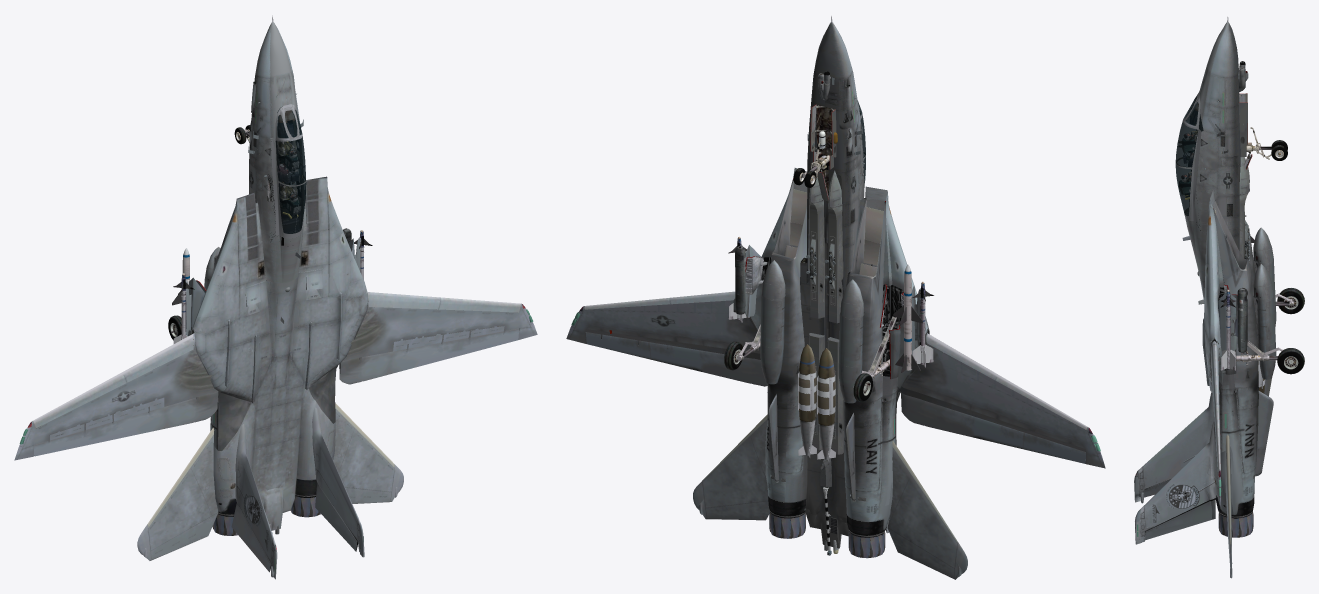
3 views of the same model, side by side, from view 1: azimuth 30°, elevation 25°; view 2: azimuth 150°, elevation 25°; view 3: azimuth 270°, elevation 25° (orthographic). The views are drawn at different scales.
Visible parts, largest first — view 1: fuselage, Part174, Part165, Part186, Part185, Part28, Part09, Part181, Part05, Part172, Part179, Part183 (+7 smaller); view 2: fuselage, Part174, Part165, Part186, Part185, Part172, Part181, Part155, Part146, Part26, Part178, Part179 (+4 smaller); view 3: fuselage, Part05, Part09, Part28, Part26, Part47, Part169, Part185, Part142, Part132, Part48, Part15 (+4 smaller).
Part boxes in pixels (left/top/right/bottom): fuselage: left=172, top=71, right=372, bottom=572; Part174: left=14, top=333, right=217, bottom=460; Part165: left=342, top=301, right=537, bottom=361; Part186: left=137, top=427, right=218, bottom=560; Part185: left=333, top=403, right=403, bottom=503; Part28: left=271, top=136, right=306, bottom=238; Part09: left=235, top=424, right=277, bottom=579; Part181: left=34, top=407, right=164, bottom=456; Part05: left=312, top=407, right=364, bottom=557; Part172: left=390, top=328, right=518, bottom=373; Part179: left=33, top=334, right=193, bottom=428; Part183: left=217, top=365, right=337, bottom=450; fuselage: left=728, top=68, right=933, bottom=553; Part174: left=900, top=333, right=1105, bottom=468; Part165: left=566, top=300, right=760, bottom=359; Part186: left=887, top=440, right=967, bottom=579; Part185: left=693, top=414, right=769, bottom=520; Part172: left=586, top=332, right=721, bottom=376; Part181: left=954, top=410, right=1085, bottom=463; Part155: left=817, top=348, right=835, bottom=461; Part146: left=798, top=344, right=816, bottom=457; Part26: left=814, top=16, right=852, bottom=78; Part178: left=901, top=392, right=955, bottom=432; Part179: left=926, top=334, right=1087, bottom=429; fuselage: left=1137, top=61, right=1276, bottom=536; Part05: left=1135, top=391, right=1273, bottom=544; Part09: left=1134, top=378, right=1271, bottom=503; Part28: left=1175, top=120, right=1201, bottom=221; Part26: left=1206, top=17, right=1238, bottom=77; Part47: left=1145, top=498, right=1215, bottom=540; Part169: left=1211, top=344, right=1220, bottom=472; Part185: left=1225, top=434, right=1232, bottom=578; Part142: left=1277, top=348, right=1304, bottom=374; Part132: left=1277, top=288, right=1304, bottom=314; Part48: left=1238, top=102, right=1247, bottom=147; Part15: left=1178, top=98, right=1203, bottom=230.
Bounding box in the file's own units: 19.72 × 18.85 × 5.69.
19 materials, 17 textured.
